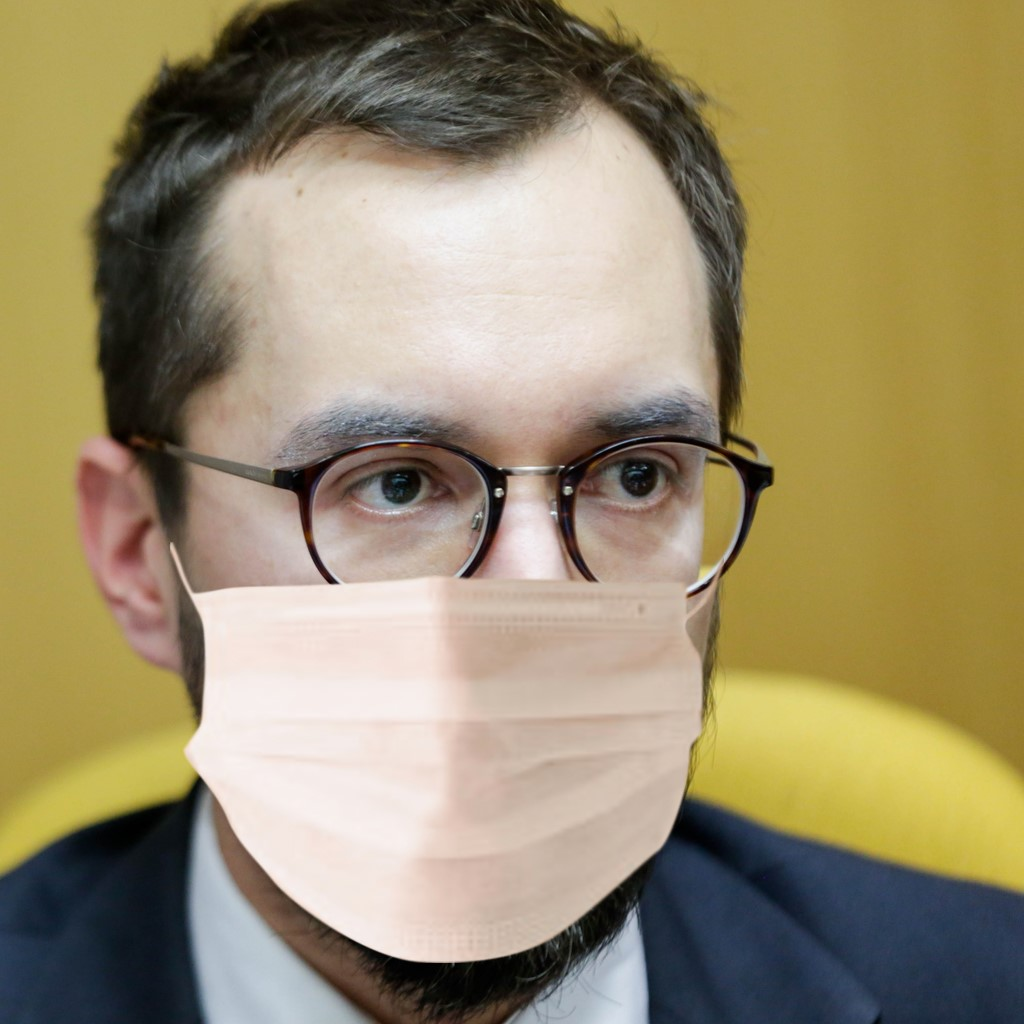con_mascara: (118, 112, 737, 988)
